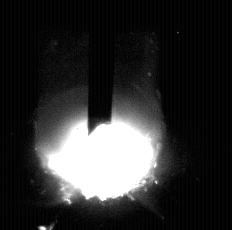arame: (88, 0, 114, 136)
poca: (34, 0, 164, 230)
